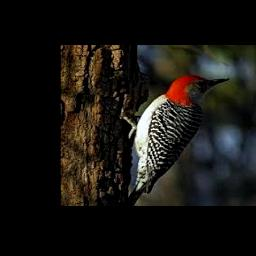Woodpecker: (124, 74, 229, 206)
